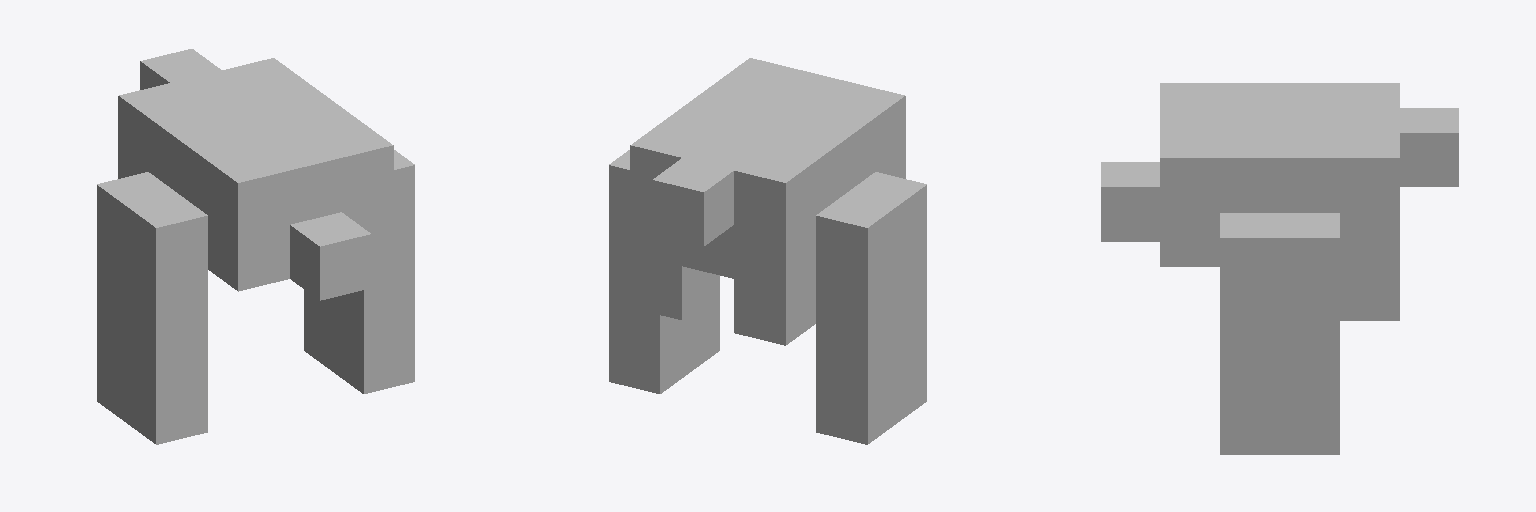
3 renders of one model, left to right at view 1: azimuth 30°, elevation 25°; view 2: azimuth 150°, elevation 25°; view 3: azimuth 270°, elevation 25°, orthographic.
Visible parts, largest first — view 1: bird_flap_02; view 2: bird_flap_02; view 3: bird_flap_02.
Boxes of the visible parts, x1,y1,x2,y2 form: bird_flap_02: [97, 49, 414, 444]; bird_flap_02: [609, 58, 926, 444]; bird_flap_02: [1101, 83, 1458, 454].
Size of the model in its own units: 0.3125 by 0.3125 by 0.375.